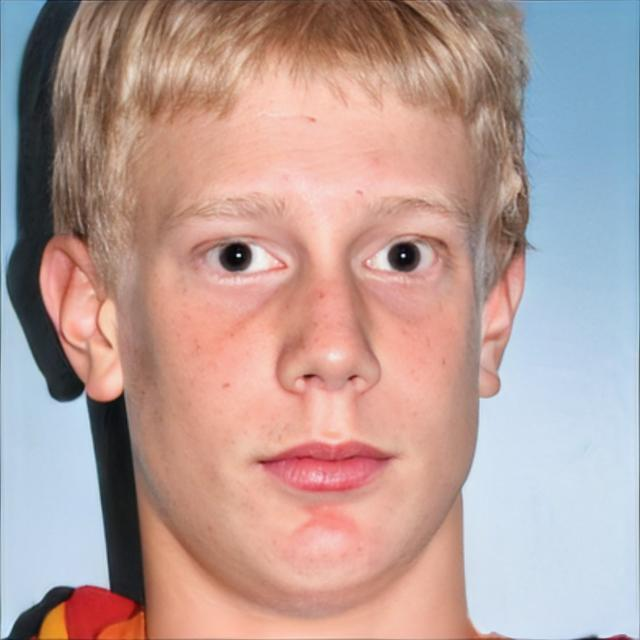neutral: (124, 34, 482, 620)
